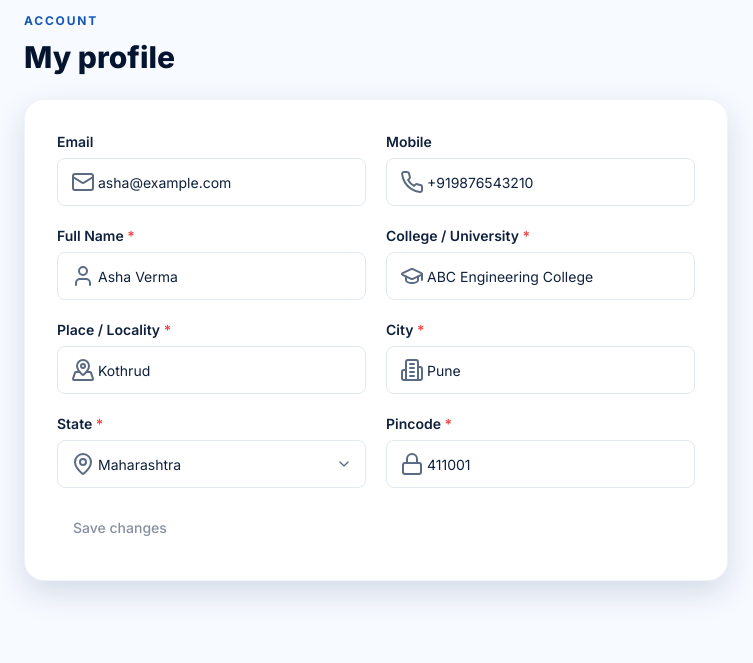
Test case: Profile (US7) › maps API field errors
Type "x" into the field labelled "City *". click: [540, 370]
box: top-left (386, 346), bottom-right (695, 394)
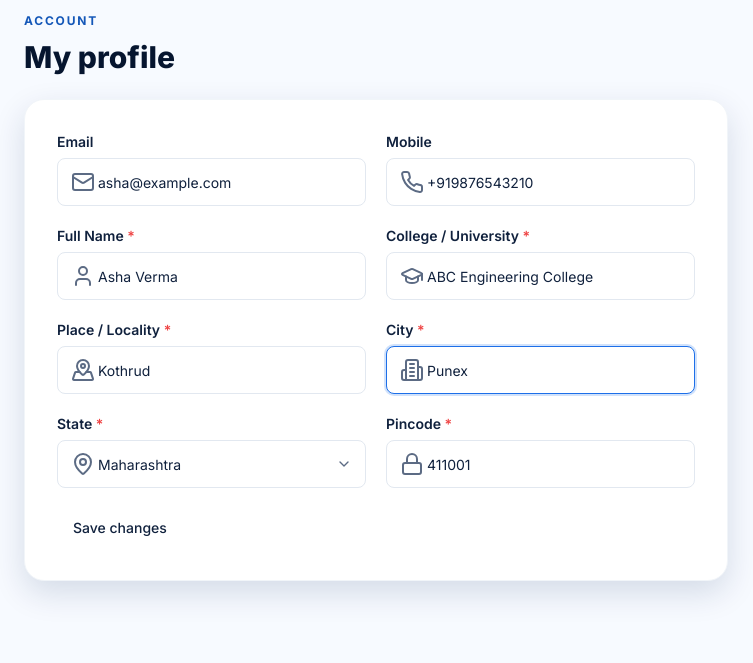
Click the button "Save changes". click: [120, 528]
box: top-left (57, 508), bottom-right (183, 548)
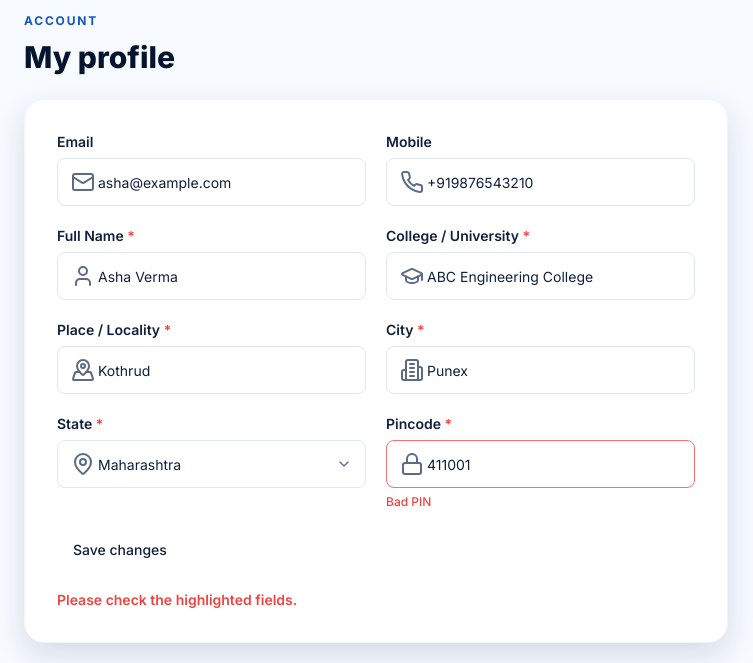
Now the text "Bad PIN" is shown, box top-left (386, 494), bottom-right (431, 509)
